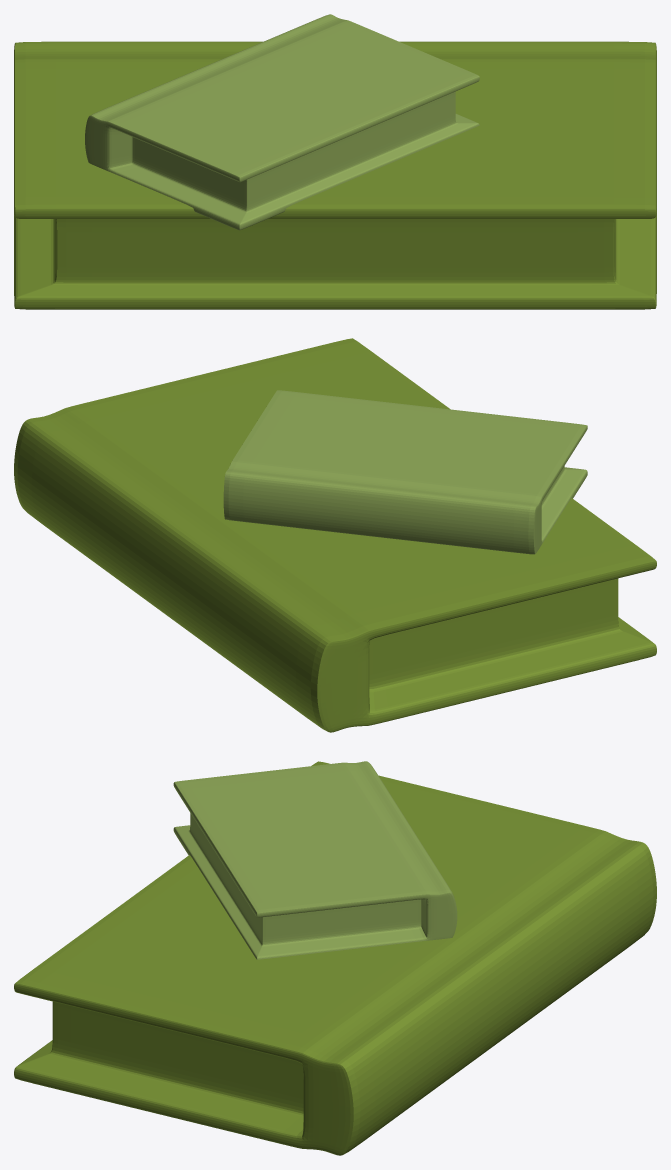
Rendered from Book3.glb.
The picture shows the model from 3 angles, top to bottom: view 1: azimuth 30°, elevation 25°; view 2: azimuth 150°, elevation 25°; view 3: azimuth 270°, elevation 25°; orthographic projection. The views are drawn at different scales.
Parts seen in each view (by area): view 1: pCube31, pCube32; view 2: pCube31, pCube32; view 3: pCube31, pCube32.
Part boxes in pixels (x1,y1,x2,y2): pCube31: (14, 41, 656, 309); pCube32: (85, 14, 479, 230); pCube31: (14, 338, 656, 732); pCube32: (223, 390, 587, 554); pCube31: (14, 761, 656, 1155); pCube32: (173, 761, 457, 959).
Bounding box in the file's own units: 91.1 × 20.22 × 81.18.
